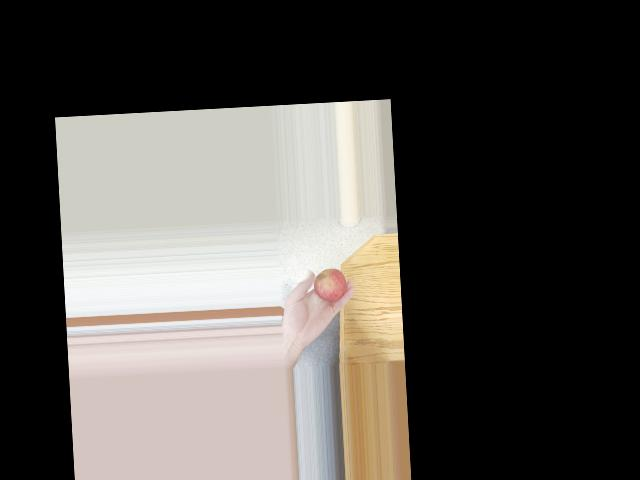apple: (310, 268, 346, 304)
